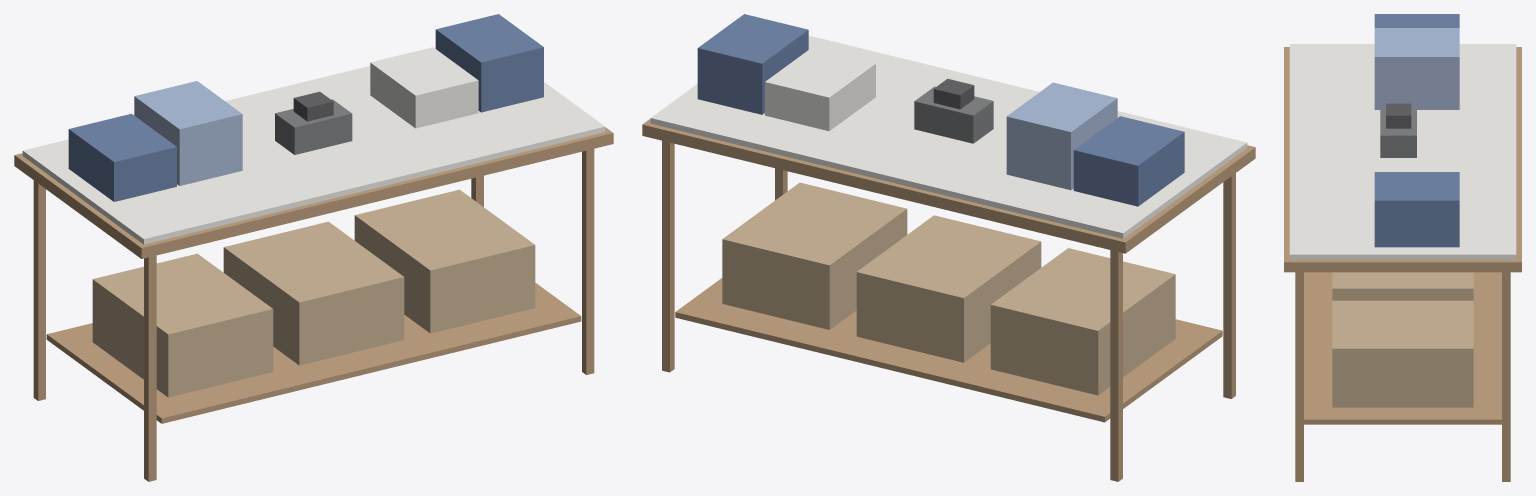
The model's file is Ironing_Table.fbx.
The picture shows the model from 3 angles, left to right: view 1: azimuth 30°, elevation 25°; view 2: azimuth 150°, elevation 25°; view 3: azimuth 270°, elevation 25°; orthographic projection. The views are drawn at different scales.
Parts seen in each view (by area): view 1: Ironing_Table; view 2: Ironing_Table; view 3: Ironing_Table.
Part boxes in pixels (x1=…): Ironing_Table: x1=14, y1=14, x2=613, y2=481; Ironing_Table: x1=642, y1=14, x2=1255, y2=481; Ironing_Table: x1=1284, y1=14, x2=1521, y2=481.
Bounding box in the file's own units: 1.8 × 1.11 × 0.84.
